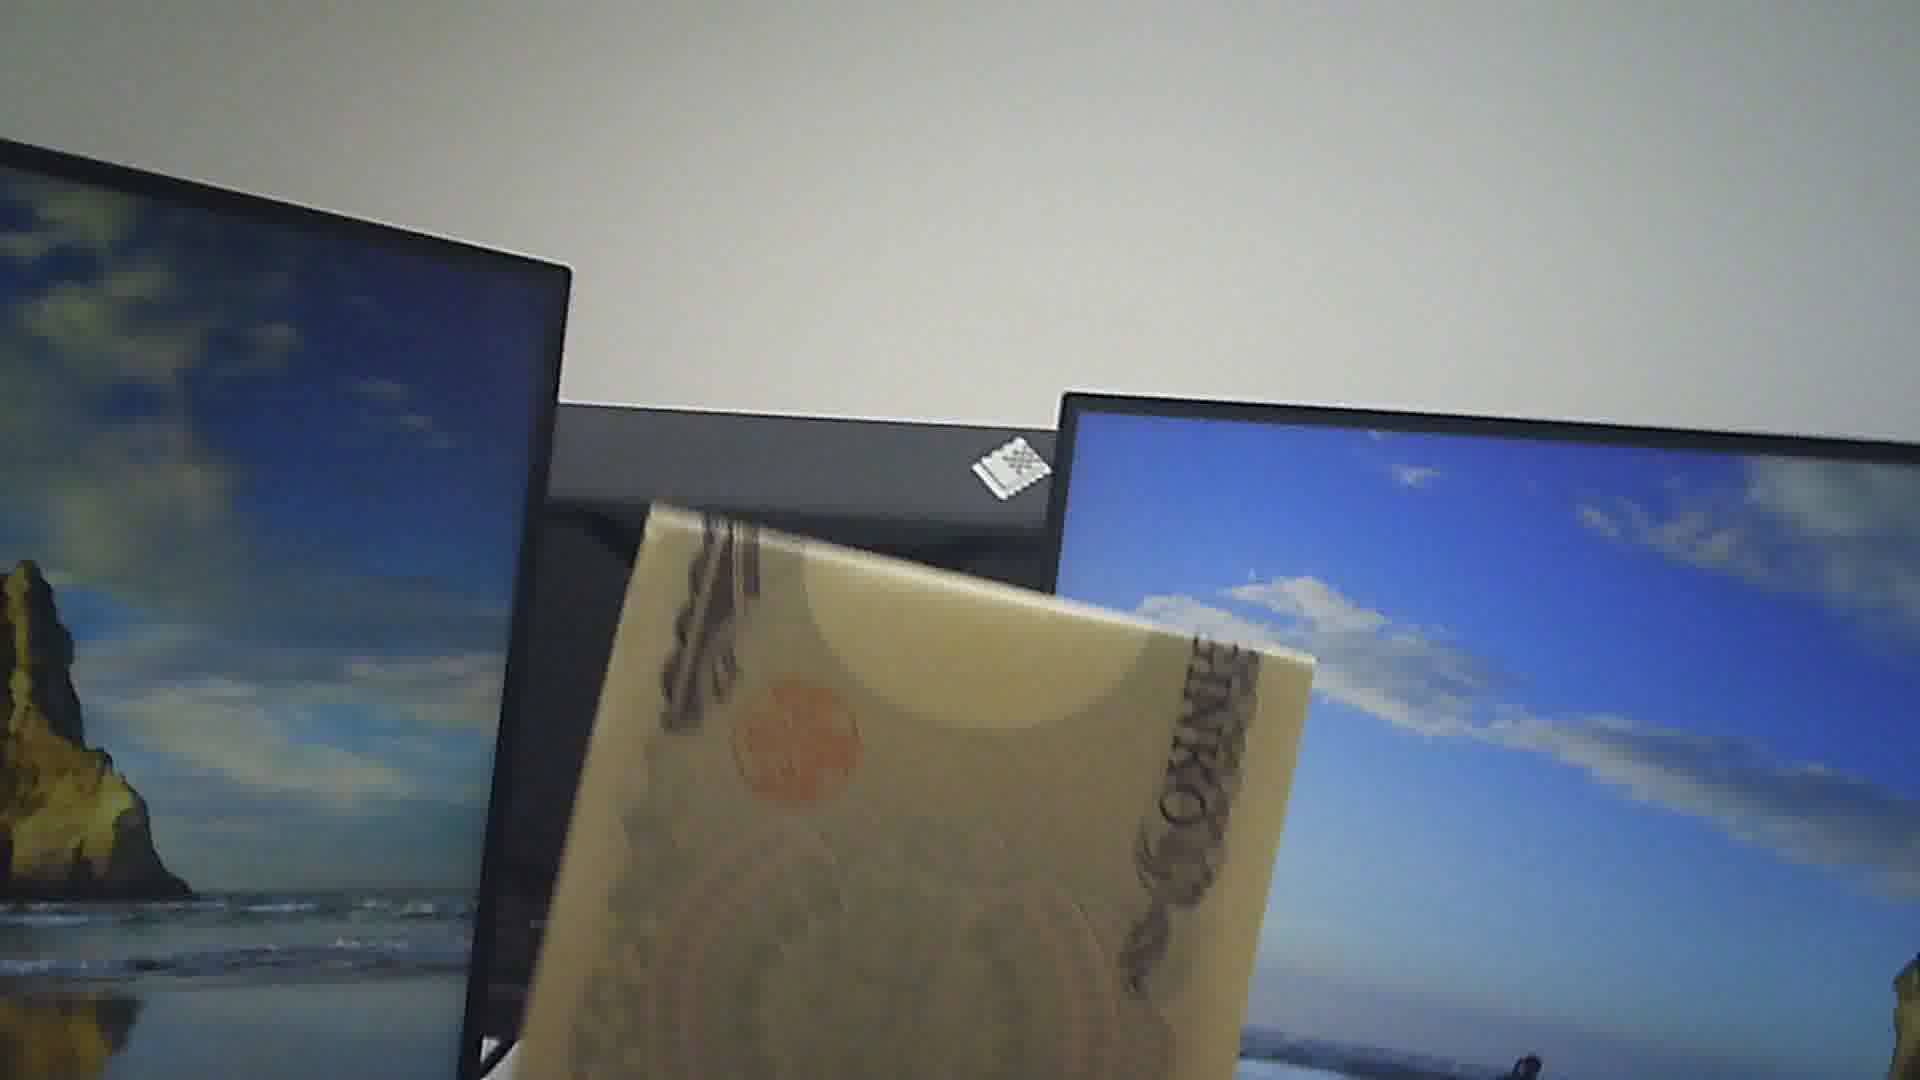5,000 Yen: (535, 498, 1291, 1079)
